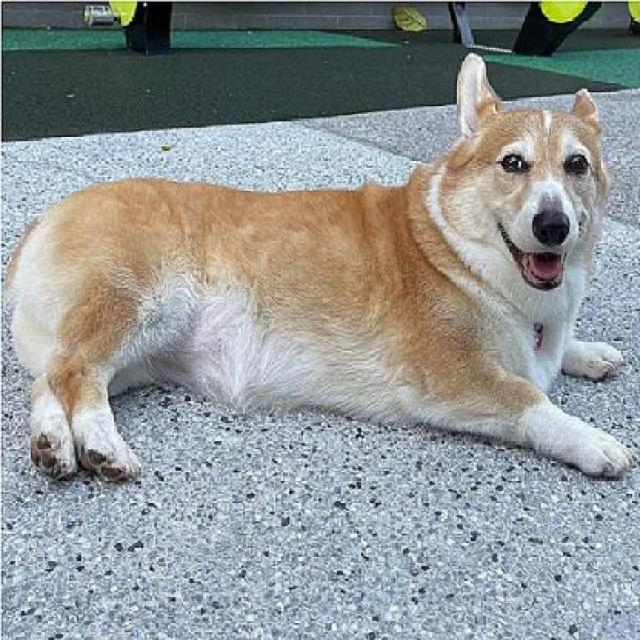Dog: (3, 52, 635, 486)
